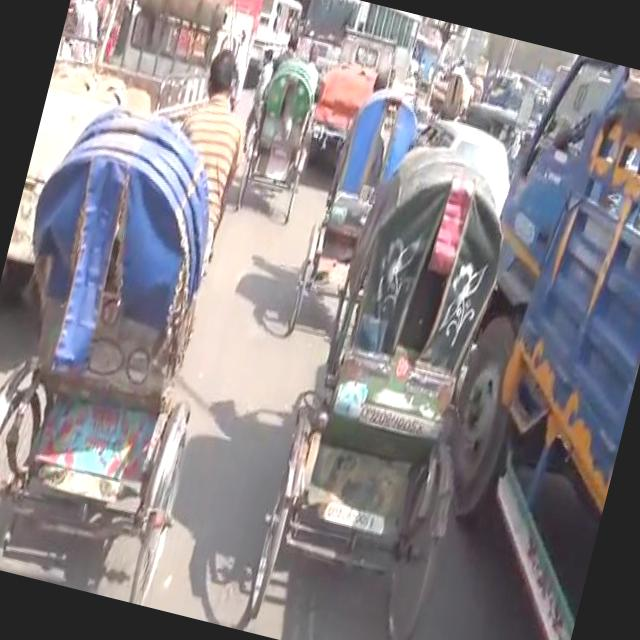bus: (293, 0, 427, 84), (243, 0, 308, 87), (98, 0, 269, 28)
car: (401, 105, 524, 214)
motorcycle: (232, 122, 541, 640), (0, 87, 268, 599), (282, 70, 428, 354), (228, 49, 330, 229), (435, 61, 469, 119)
truck: (391, 45, 640, 640), (6, 0, 266, 307), (298, 19, 404, 180)
